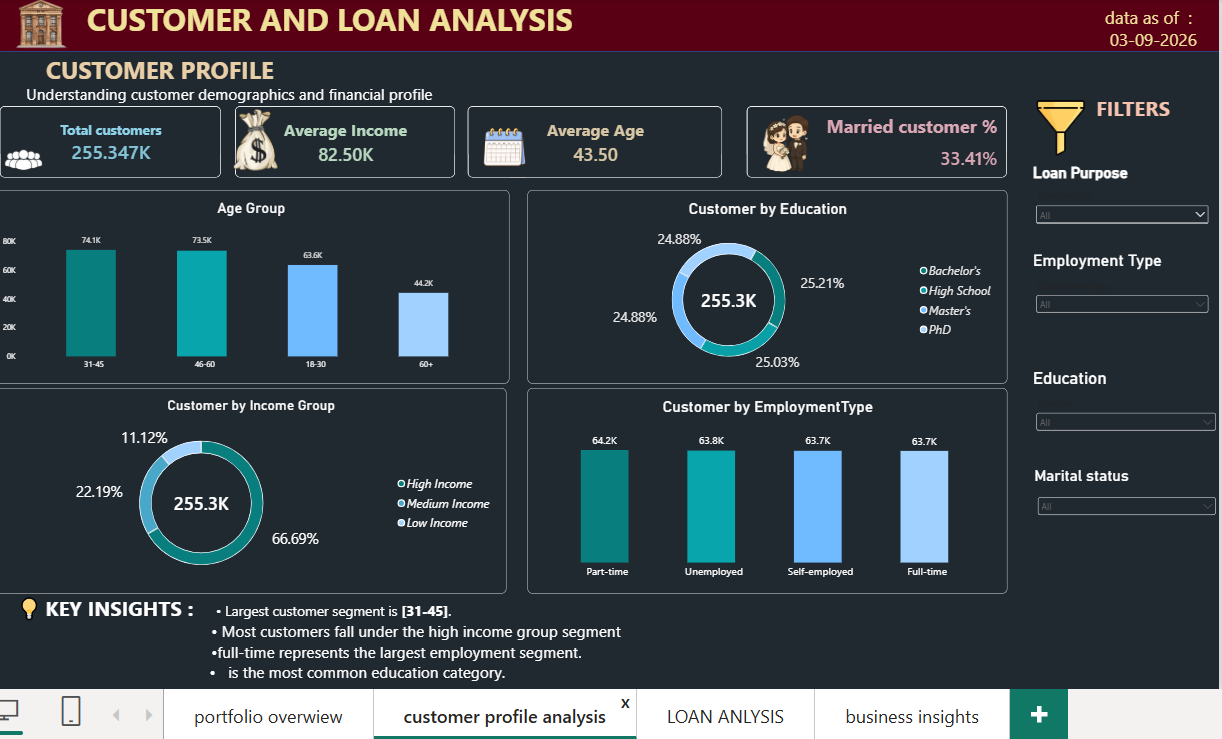

The page's visual inventory and layout, read from the dashboard file:
{"tool":"powerbi","page":{"name":"customer profile analysis","canvas":[1920,1080],"ordinal":1},"visuals":[{"type":"shape","box":[0,0,1920.1,84.4],"z":0},{"type":"textbox","box":[9.4,0,1899,84.4],"z":1000},{"type":"textbox","box":[1739.6,11.7,168.8,89.1],"z":2000},{"type":"image","box":[311.8,274.3,136,112.5],"z":3000},{"type":"textbox","box":[11.7,133.6,689.3,35.2],"z":4000},{"type":"cardVisual","fields":{"Data":["CountNonNull(Loan_data.LoanID)"]},"box":[11.7,168.8,347,112.5],"z":5000},{"type":"cardVisual","fields":{"Data":["Avg(Loan_data.Age)"]},"box":[743.2,168.8,398.6,112.5],"z":6000},{"type":"cardVisual","fields":{"Data":["Avg(Loan_data.Income)"]},"box":[379.8,168.8,344.6,112.5],"z":7000},{"type":"cardVisual","fields":{"Data":["Loan_data.Married customer %"]},"box":[1179.3,168.8,407.9,112.5],"z":8000},{"type":"image","box":[743.2,194.6,114.9,79.7],"z":9000},{"type":"image","box":[0,138.3,98.5,229.8],"z":10000},{"type":"image","box":[1179.3,166.5,128.9,112.5],"z":11000},{"type":"textbox","box":[1627.1,150,279,107.8],"z":12000},{"type":"image","box":[1627.1,152.4,86.7,100.8],"z":13000},{"type":"slicer","title":"Loan Purpose","fields":{"Values":["Loan_data.LoanPurpose"]},"box":[1627.1,257.9,279,128.9],"z":14000},{"type":"slicer","title":"Employment Type","fields":{"Values":["Loan_data.EmploymentType"]},"box":[1627.1,396.2,279,143],"z":15000},{"type":"slicer","title":"Education","fields":{"Values":["Loan_data.Education"]},"box":[1627.1,579.1,290.7,152.4],"z":16000},{"type":"slicer","title":"Marital status","fields":{"Values":["Loan_data.MaritalStatus"]},"box":[1629.4,731.5,288.4,128.9],"z":17000},{"type":"clusteredColumnChart","title":"Age Group","fields":{"Category":["Loan_data.Age Group"],"Y":["CountNonNull(Loan_data.LoanID)"]},"box":[0,300.1,808.8,302.4],"z":18000},{"type":"donutChart","title":"Customer by Education","fields":{"Category":["Loan_data.Education"],"Y":["CountNonNull(Loan_data.LoanID)"]},"box":[837,300.1,750.2,302.4],"z":19000},{"type":"clusteredColumnChart","title":"Customer by EmploymentType","fields":{"Category":["Loan_data.EmploymentType"],"Y":["CountNonNull(Loan_data.LoanID)"]},"box":[837,609.6,750.2,321.2],"z":20000},{"type":"donutChart","title":"Customer by Income Group","fields":{"Y":["CountNonNull(Loan_data.LoanID)"],"Category":["Loan_data.Income group"]},"box":[4.7,609.6,799.5,321.2],"z":21000},{"type":"image","box":[358.7,168.8,105.5,105.5],"z":22000},{"type":"textbox","box":[0,930.8,1915.4,150],"z":23000},{"type":"image","box":[9.4,0,136,79.7],"z":24000},{"type":"textbox","box":[84.4,86.7,419.7,51.6],"z":25000}]}

Visuals, with their boxes on the page's 1920x1080 design canvas (x1, y1, x2, y2). These are canvas units, not pixel positions in the 1222x739 screenshot, which may show the page scaled, cropped or inside an application window:
shape: <region>0, 0, 1920, 84</region>
textbox: <region>9, 0, 1908, 84</region>
textbox: <region>1740, 12, 1908, 101</region>
image: <region>312, 274, 448, 387</region>
textbox: <region>12, 134, 701, 169</region>
cardVisual - CountNonNull(Loan_data.LoanID): <region>12, 169, 359, 281</region>
cardVisual - Avg(Loan_data.Age): <region>743, 169, 1142, 281</region>
cardVisual - Avg(Loan_data.Income): <region>380, 169, 724, 281</region>
cardVisual - Loan_data.Married customer %: <region>1179, 169, 1587, 281</region>
image: <region>743, 195, 858, 274</region>
image: <region>0, 138, 98, 368</region>
image: <region>1179, 166, 1308, 279</region>
textbox: <region>1627, 150, 1906, 258</region>
image: <region>1627, 152, 1714, 253</region>
"Loan Purpose" slicer: <region>1627, 258, 1906, 387</region>
"Employment Type" slicer: <region>1627, 396, 1906, 539</region>
"Education" slicer: <region>1627, 579, 1918, 732</region>
"Marital status" slicer: <region>1629, 732, 1918, 860</region>
"Age Group" clusteredColumnChart: <region>0, 300, 809, 602</region>
"Customer by Education" donutChart: <region>837, 300, 1587, 602</region>
"Customer by EmploymentType" clusteredColumnChart: <region>837, 610, 1587, 931</region>
"Customer by Income Group" donutChart: <region>5, 610, 804, 931</region>
image: <region>359, 169, 464, 274</region>
textbox: <region>0, 931, 1915, 1081</region>
image: <region>9, 0, 145, 80</region>
textbox: <region>84, 87, 504, 138</region>
